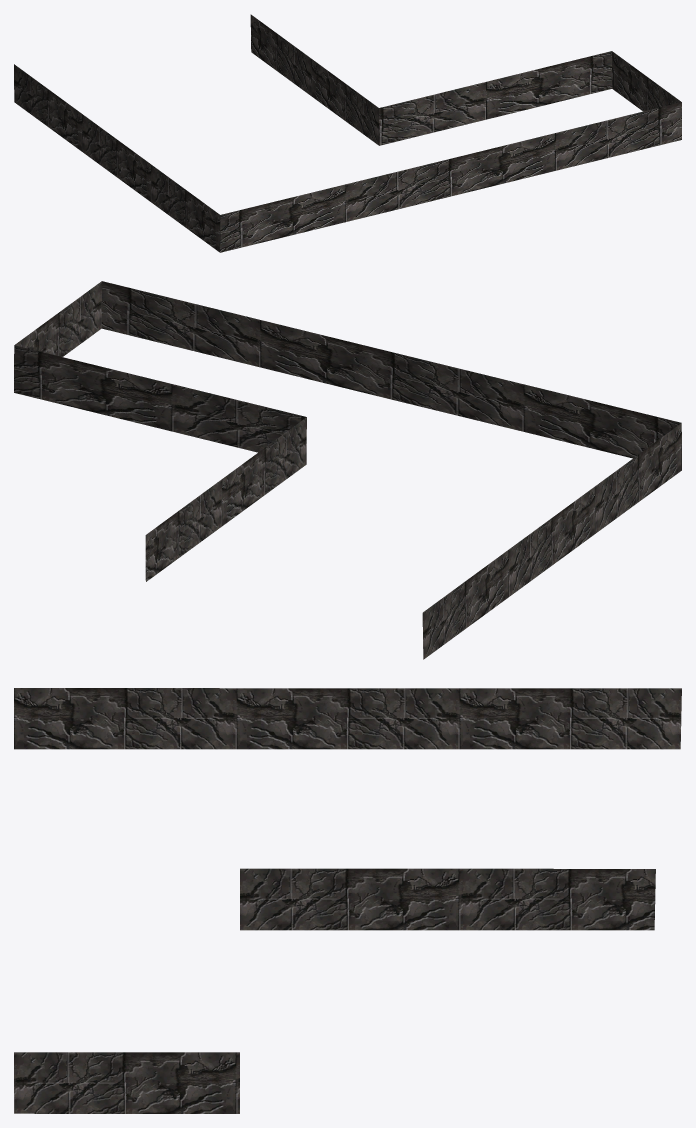
Rendered from CH09_SMAUG_PLAYSURFACE_LAIR110.fbx.
3 views of the same model, one above another, from view 1: azimuth 30°, elevation 25°; view 2: azimuth 150°, elevation 25°; view 3: azimuth 270°, elevation 25° (orthographic). The views are drawn at different scales.
Parts seen in each view (by area): view 1: CH09_SMAUG_PLAYSURFACE_LAIR110; view 2: CH09_SMAUG_PLAYSURFACE_LAIR110; view 3: CH09_SMAUG_PLAYSURFACE_LAIR110.
Part boxes in pixels (x1=…): CH09_SMAUG_PLAYSURFACE_LAIR110: x1=14, y1=14, x2=681, y2=252; CH09_SMAUG_PLAYSURFACE_LAIR110: x1=14, y1=281, x2=681, y2=659; CH09_SMAUG_PLAYSURFACE_LAIR110: x1=14, y1=688, x2=681, y2=1113.
Size of the model in its own units: 318534 by 25170 by 246421.
1 material, 1 textured.
